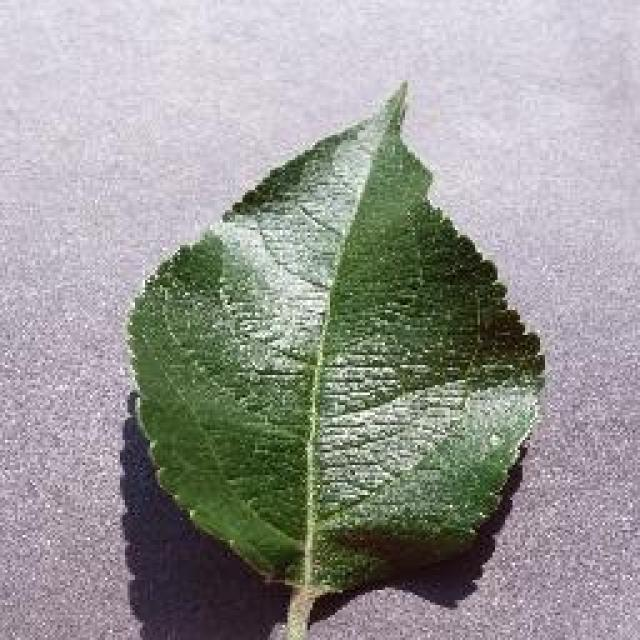apple healthy: (122, 78, 548, 638)
